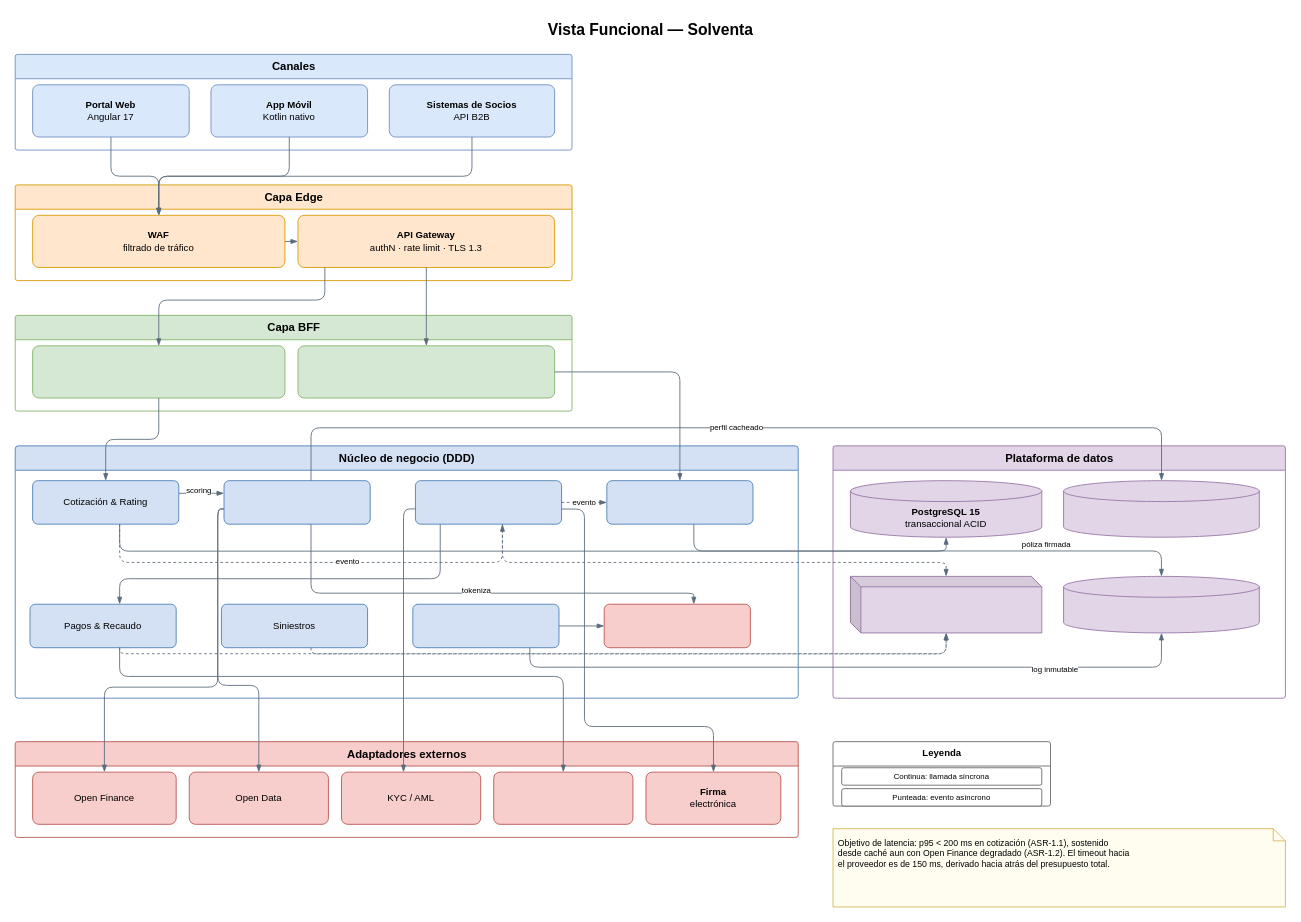
This 1301x922 diagram has some shape labels left out. The centre of each missing label's shape, as x and y in pixels:
BFF Móvil + sincronización offline: the point at 426,371
BFF Web composición de vistas: the point at 158,371
Consentimientos & Auditoría: the point at 485,625
Event Bus Kafka / MSK retención 7 días: the point at 946,604
Pasarelas de pago: the point at 563,797
Perfilamiento & Scoring: the point at 296,502
Pólizas: the point at 679,502
Redis 7 caché · TTL 15 min: the point at 1161,508
S3 + Object Lock documentos · auditoría: the point at 1161,604
Suscripción & Emisión: the point at 488,502
Tokenización frontera de custodia: the point at 676,625
